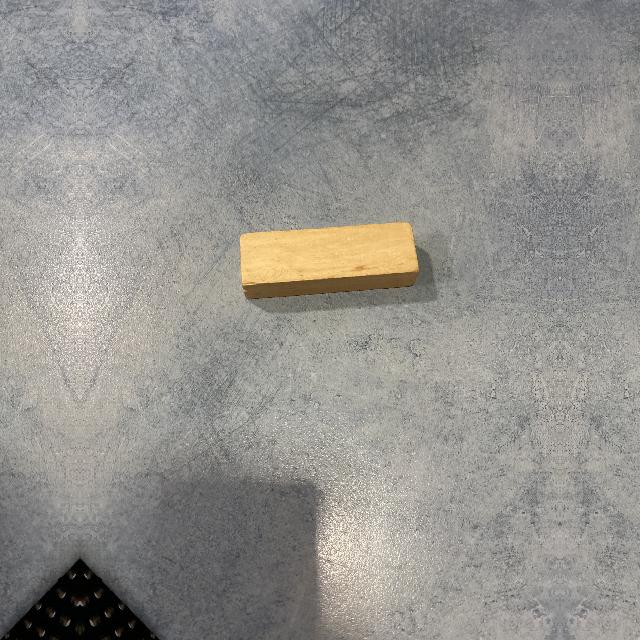jenga: (240, 222, 418, 294)
